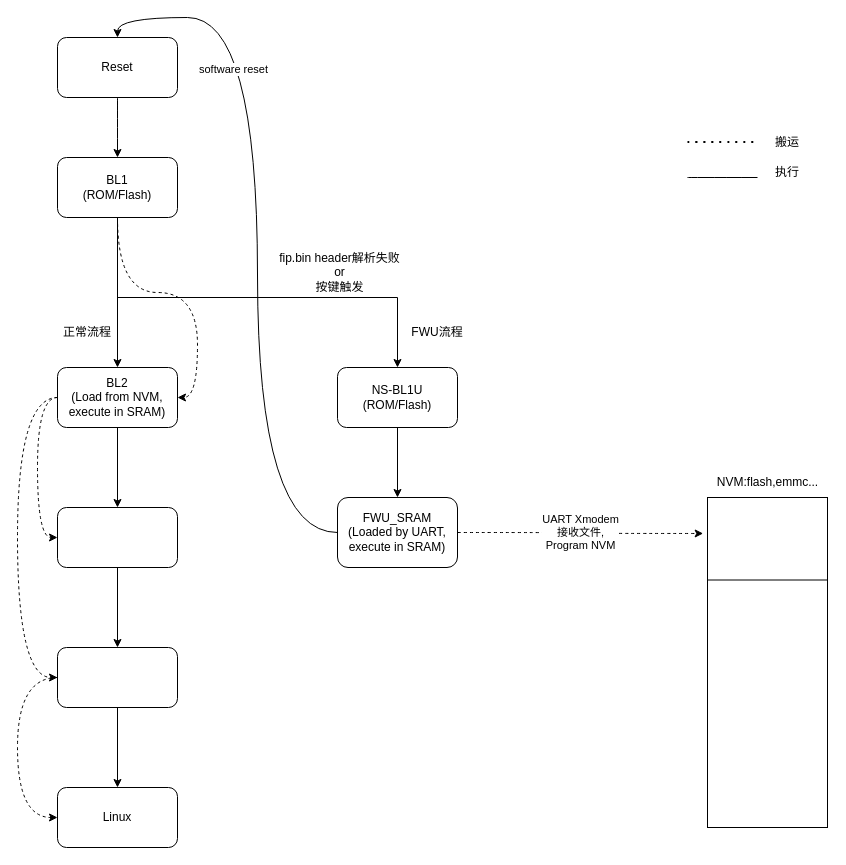
Some shapes in this 846 by 865 pixel diagram are drawn without their labels. The shapes that lost their labels are listed below. From the top down, each one's centre as x and y in pixels, then its label:
At (x=117, y=537): "BL31 (Load from NVM, execute in SRAM)".
At (x=117, y=677): "U-Boot (Load from NVM, execute in DRAM)".
At (x=767, y=662): "fip.bin (bl2/bl31/uboot/ m3_bl2)".
